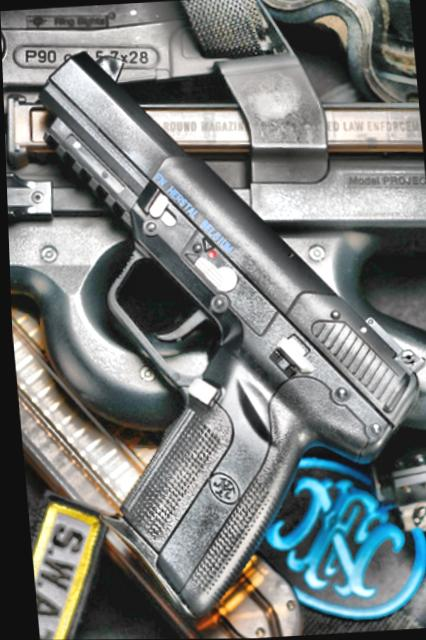pistol: (27, 32, 426, 631)
